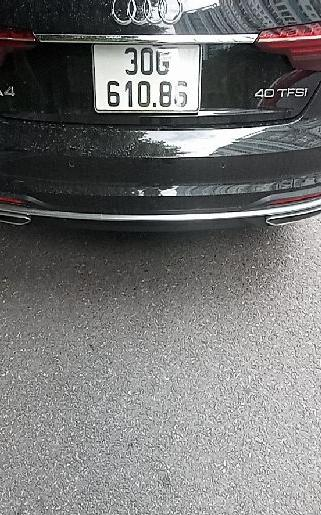Plate-iWeP: (90, 33, 203, 117)
